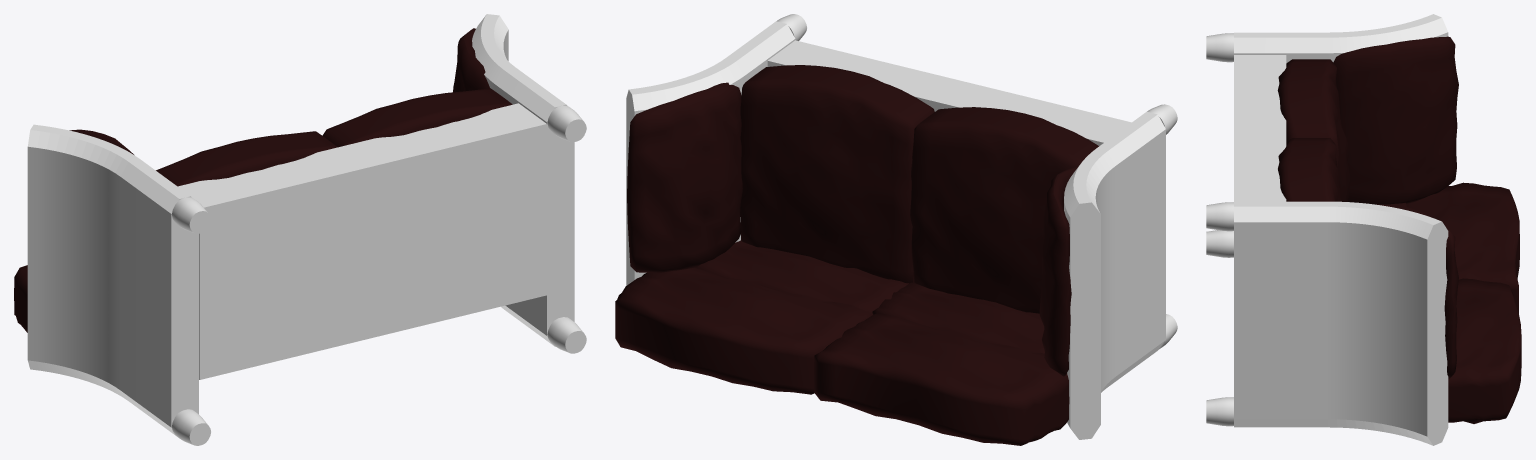
File: Soffa.FBX
3 views of the same model, side by side, from view 1: azimuth 30°, elevation 25°; view 2: azimuth 150°, elevation 25°; view 3: azimuth 270°, elevation 25° (orthographic). The views are drawn at different scales.
Visible parts, largest first — view 1: Box014, ChamferBox001, ChamferBox002, Cylinder005, ChamferBox009, ChamferBox012; view 2: Box014, ChamferBox001, ChamferBox002, ChamferBox012, ChamferBox011, ChamferBox009, ChamferBox005, ChamferBox006, Soffa, Cylinder005; view 3: Box014, Soffa, ChamferBox011, ChamferBox012, ChamferBox002, ChamferBox001, Cylinder005, ChamferBox009.
Part boxes in pixels (left/top/right/bottom): Box014: left=27, top=14, right=574, bottom=438; ChamferBox001: left=322, top=88, right=512, bottom=147; ChamferBox002: left=156, top=131, right=337, bottom=186; Cylinder005: left=171, top=105, right=586, bottom=445; ChamferBox009: left=453, top=28, right=490, bottom=92; ChamferBox012: left=14, top=265, right=27, bottom=332; Box014: left=626, top=21, right=1165, bottom=439; ChamferBox001: left=740, top=65, right=934, bottom=283; ChamferBox002: left=910, top=107, right=1098, bottom=313; ChamferBox012: left=814, top=313, right=1069, bottom=445; ChamferBox011: left=615, top=267, right=870, bottom=394; ChamferBox009: left=627, top=82, right=742, bottom=272; ChamferBox005: left=696, top=240, right=908, bottom=315; ChamferBox006: left=872, top=282, right=1044, bottom=353; Soffa: left=1039, top=166, right=1078, bottom=376; Cylinder005: left=776, top=14, right=1177, bottom=349; Box014: left=1234, top=14, right=1448, bottom=445; Soffa: left=1333, top=36, right=1458, bottom=204; ChamferBox011: left=1448, top=278, right=1521, bottom=423; ChamferBox012: left=1406, top=182, right=1519, bottom=313; ChamferBox002: left=1277, top=59, right=1350, bottom=201; ChamferBox001: left=1278, top=138, right=1341, bottom=201; Cylinder005: left=1206, top=33, right=1233, bottom=426; ChamferBox009: left=1380, top=204, right=1458, bottom=379.
Size of the model in its own units: 122 by 58.22 by 75.31.
